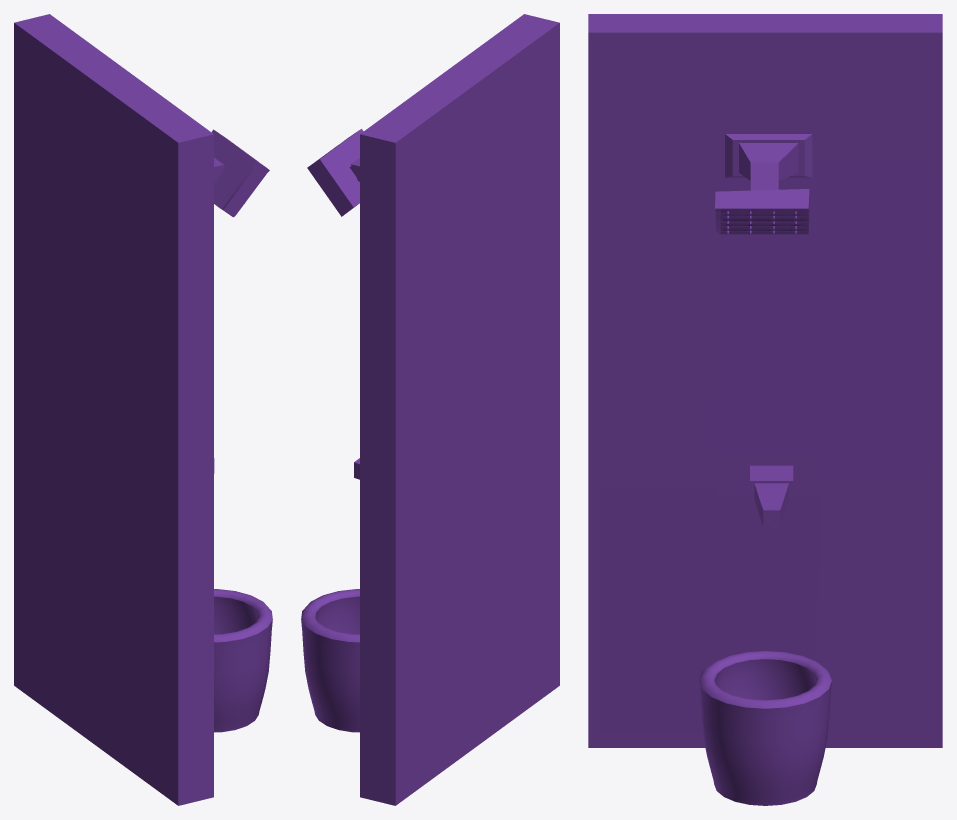
Rendered from Shower And Bucket Fbx.fbx.
3 views of the same model, side by side, from view 1: azimuth 30°, elevation 25°; view 2: azimuth 150°, elevation 25°; view 3: azimuth 270°, elevation 25° (orthographic). The views are drawn at different scales.
Parts seen in each view (by area): view 1: polySurface14; view 2: polySurface14; view 3: polySurface14.
Part boxes in pixels (x1,y1,x2,y2): polySurface14: (14, 14, 272, 805); polySurface14: (301, 14, 559, 805); polySurface14: (588, 14, 942, 805).
Size of the model in its own units: 4.73 by 17.75 by 7.98.
